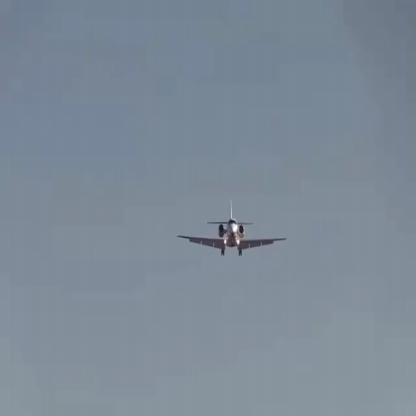CIV_Plane: (176, 202, 289, 258)
